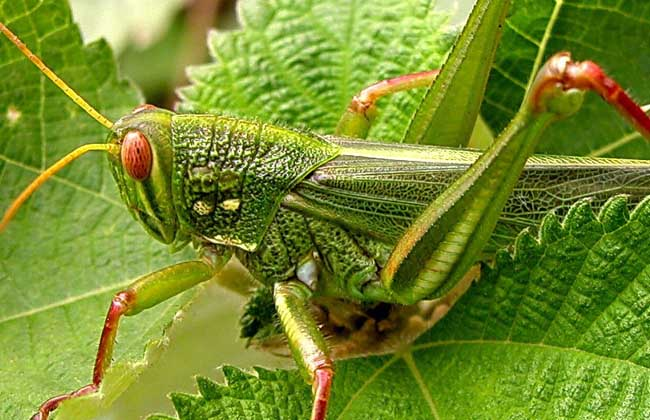huangchong: (96, 99, 650, 359)
